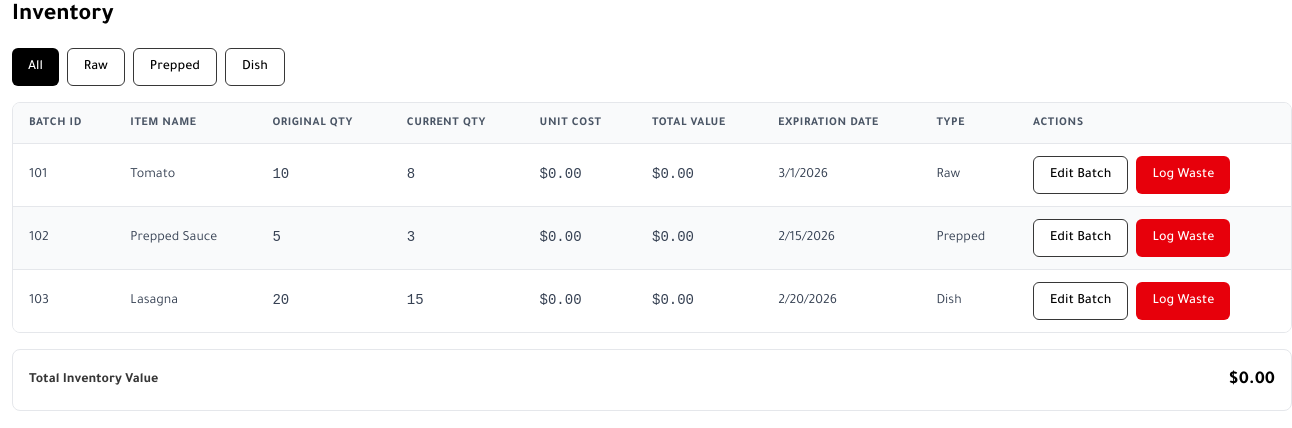
Scenario: InventoryPage › filters to show only Dish items when Dish filter is clicked
This screenshot has width=1292, height=428.
Expected: the text "Tomato" is shown, left=114, top=144, right=256, bottom=206
Click the button "Dish": (255, 67) left=225, top=48, right=285, bottom=86
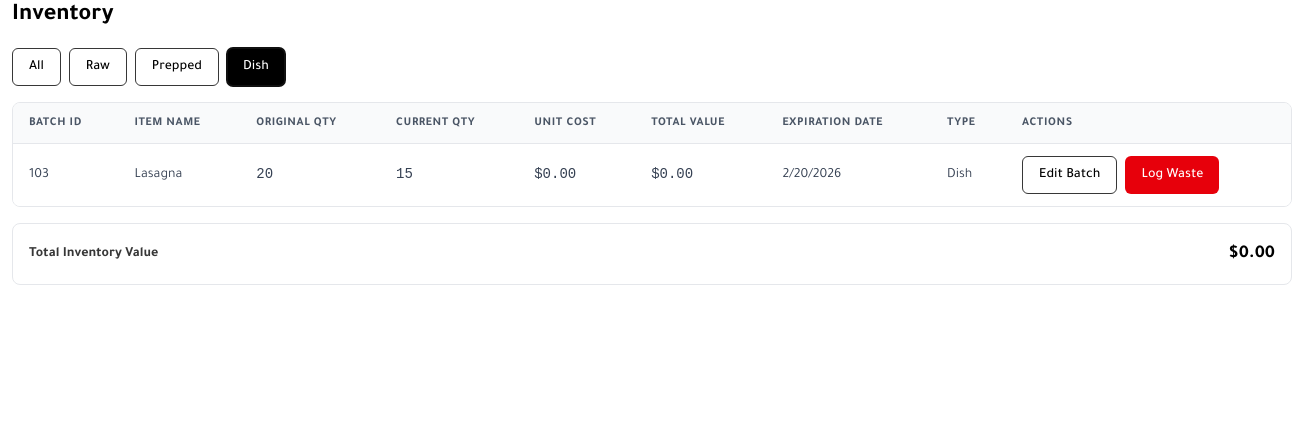
Expected: the text "Lasagna" is shown, left=118, top=144, right=240, bottom=206
Now the text "Tomato" is gone
Now the text "Prepped Sauce" is gone
